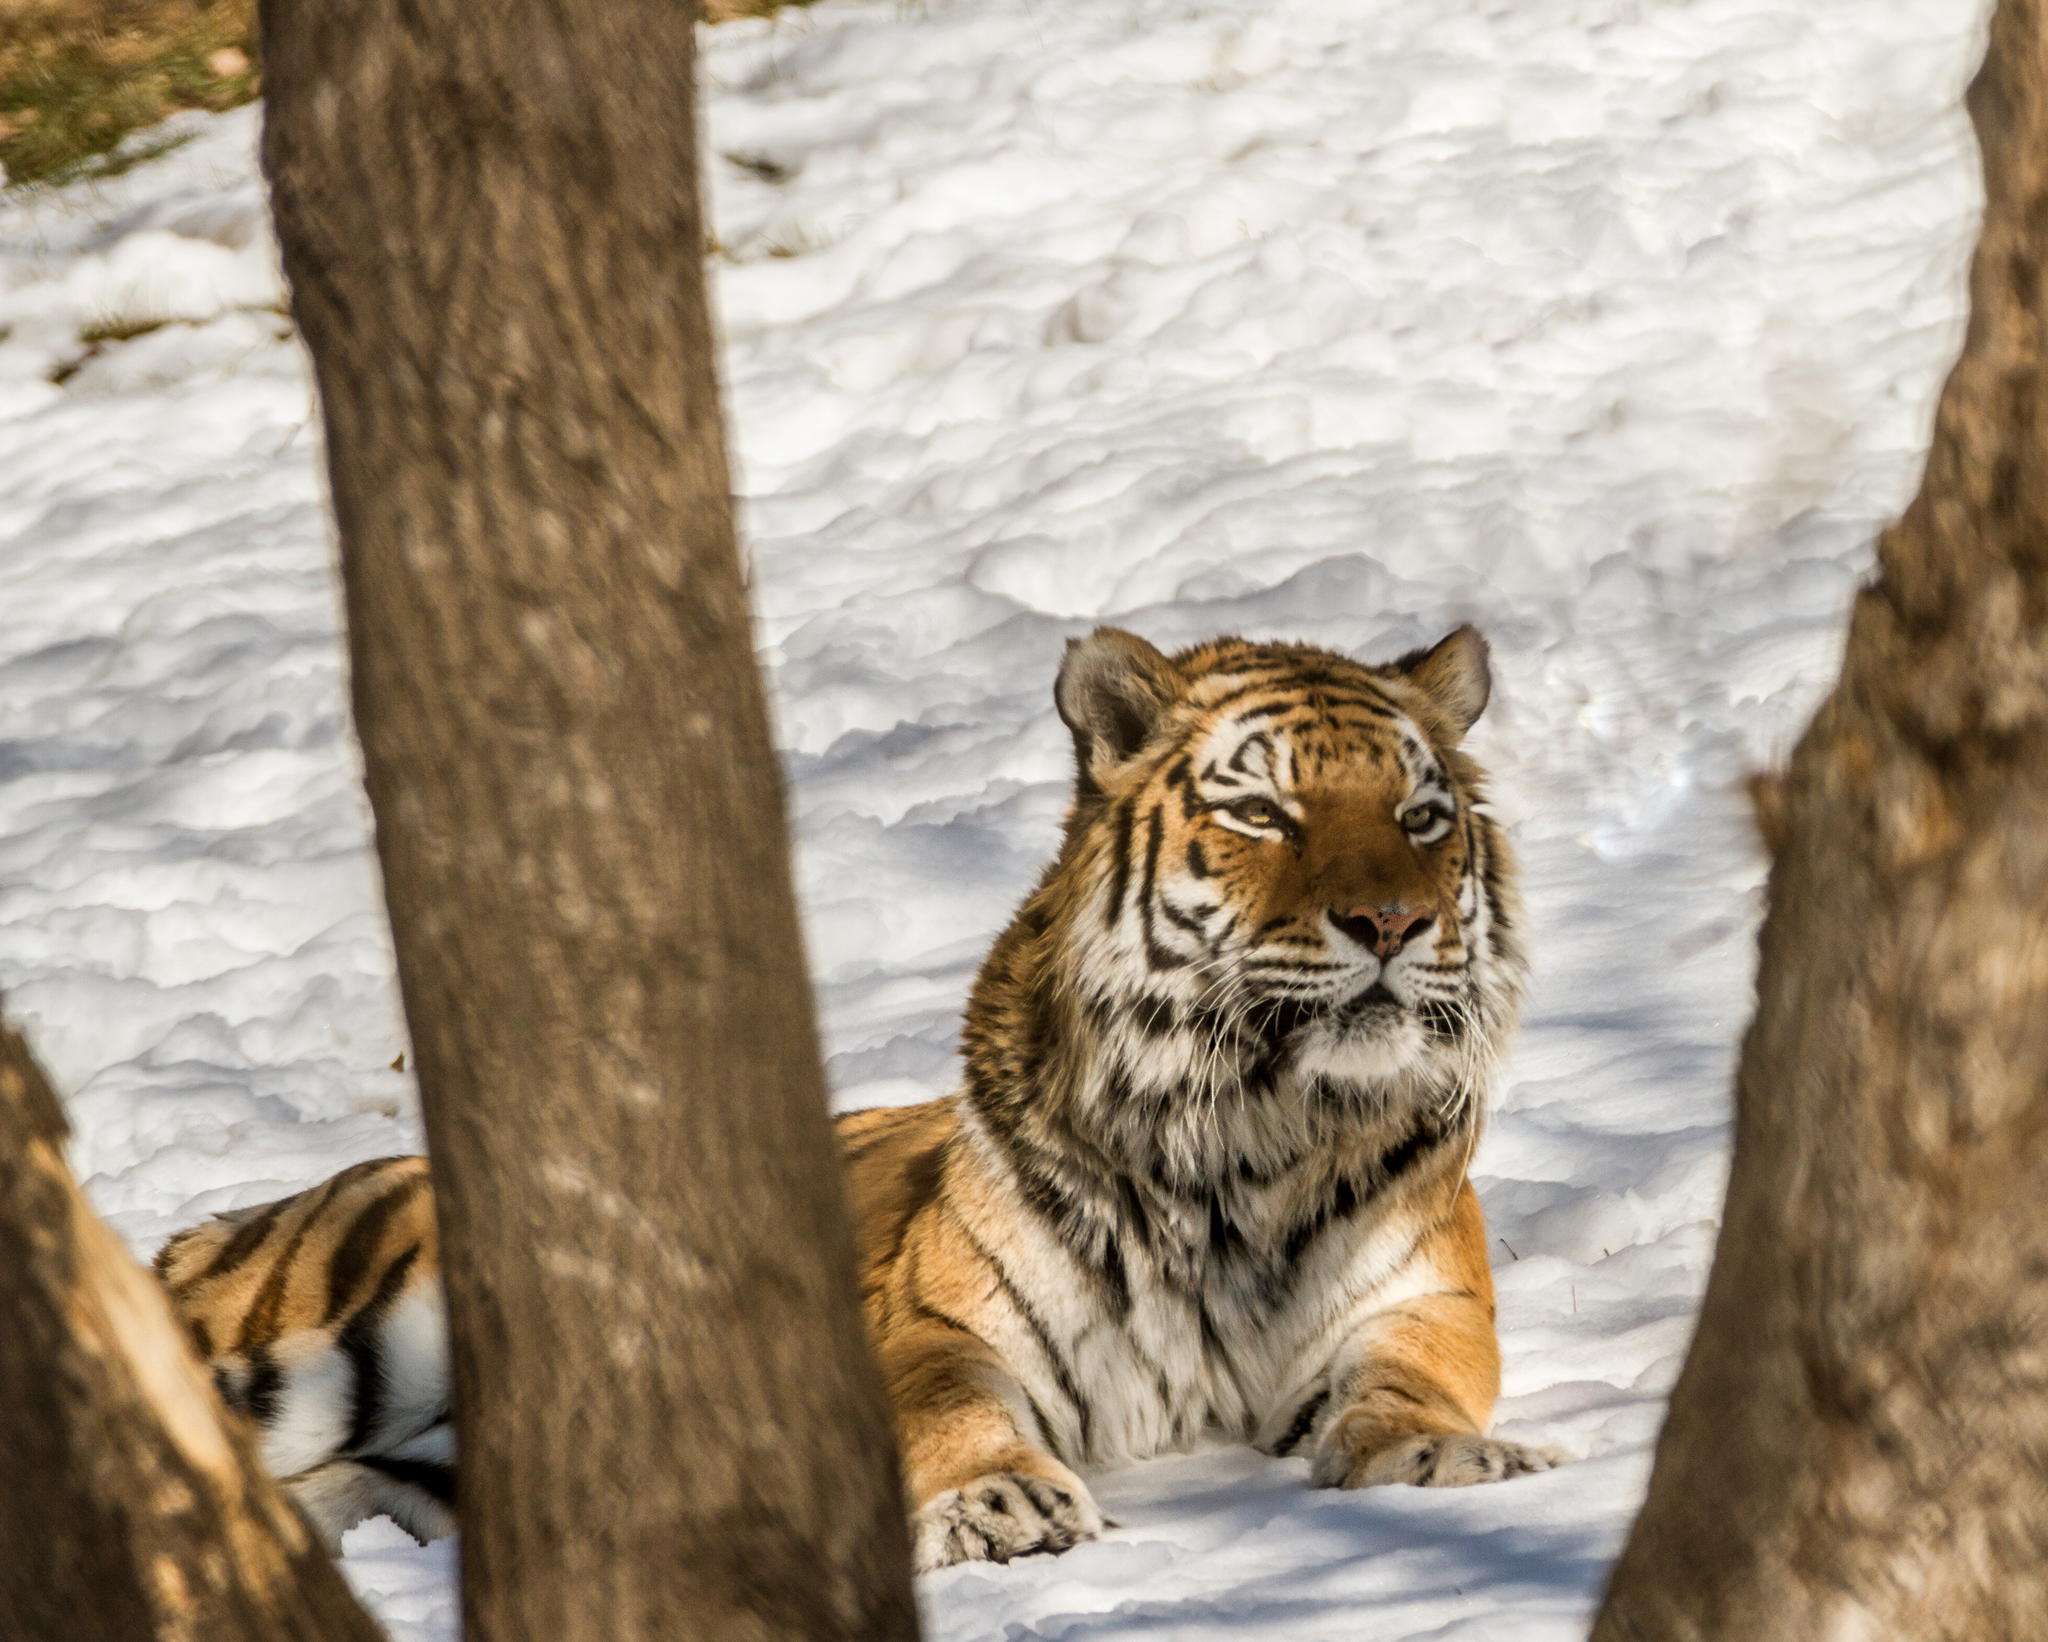tiger: (146, 603, 1611, 1500)
